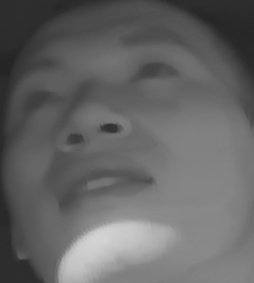eye: (129, 56, 182, 94), (18, 82, 69, 117)
mouth: (49, 155, 156, 225)
